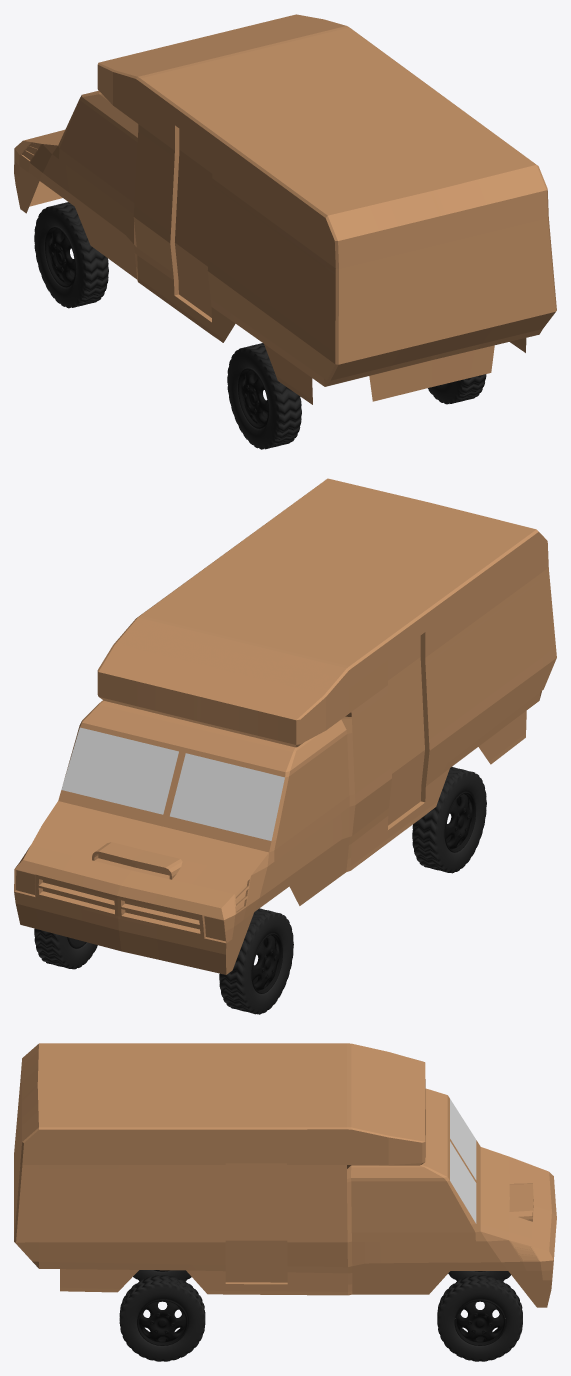
File: IVECO RV.fbx
3 views of the same model, one above another, from view 1: azimuth 30°, elevation 25°; view 2: azimuth 150°, elevation 25°; view 3: azimuth 270°, elevation 25° (orthographic). The views are drawn at different scales.
Visible parts, largest first — view 1: Plane, Cylinder.001, Cylinder.005, Cylinder, Cylinder.004, Cylinder.007; view 2: Plane, Cylinder.005, Cylinder.001, Cylinder.003, Cylinder.004, Cylinder; view 3: Plane, Cylinder.007, Cylinder.003, Cylinder.002, Cylinder.006, Cylinder.001, Cylinder.005.
Part boxes in pixels (x1,y1,x2,y2): Plane: (14,14,556,404); Cylinder.001: (34,202,108,308); Cylinder.005: (227,343,301,449); Cylinder: (45,227,76,287); Cylinder.004: (238,368,269,428); Cylinder.007: (428,374,486,404); Plane: (14,478,556,974); Cylinder.005: (412,767,486,873); Cylinder.001: (219,908,293,1014); Cylinder.003: (34,928,97,969); Cylinder.004: (444,792,475,852); Cylinder: (251,933,282,993); Plane: (14,1043,556,1307); Cylinder.007: (119,1275,205,1361); Cylinder.003: (437,1275,522,1361); Cylinder.002: (454,1299,505,1345); Cylinder.006: (137,1299,187,1345); Cylinder.001: (448,1271,510,1280); Cylinder.005: (133,1270,191,1281).
Bounding box in the file's own units: 219 × 269 × 565.
